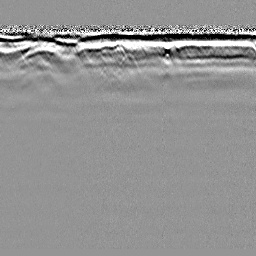cavity: (114, 52, 142, 74)
